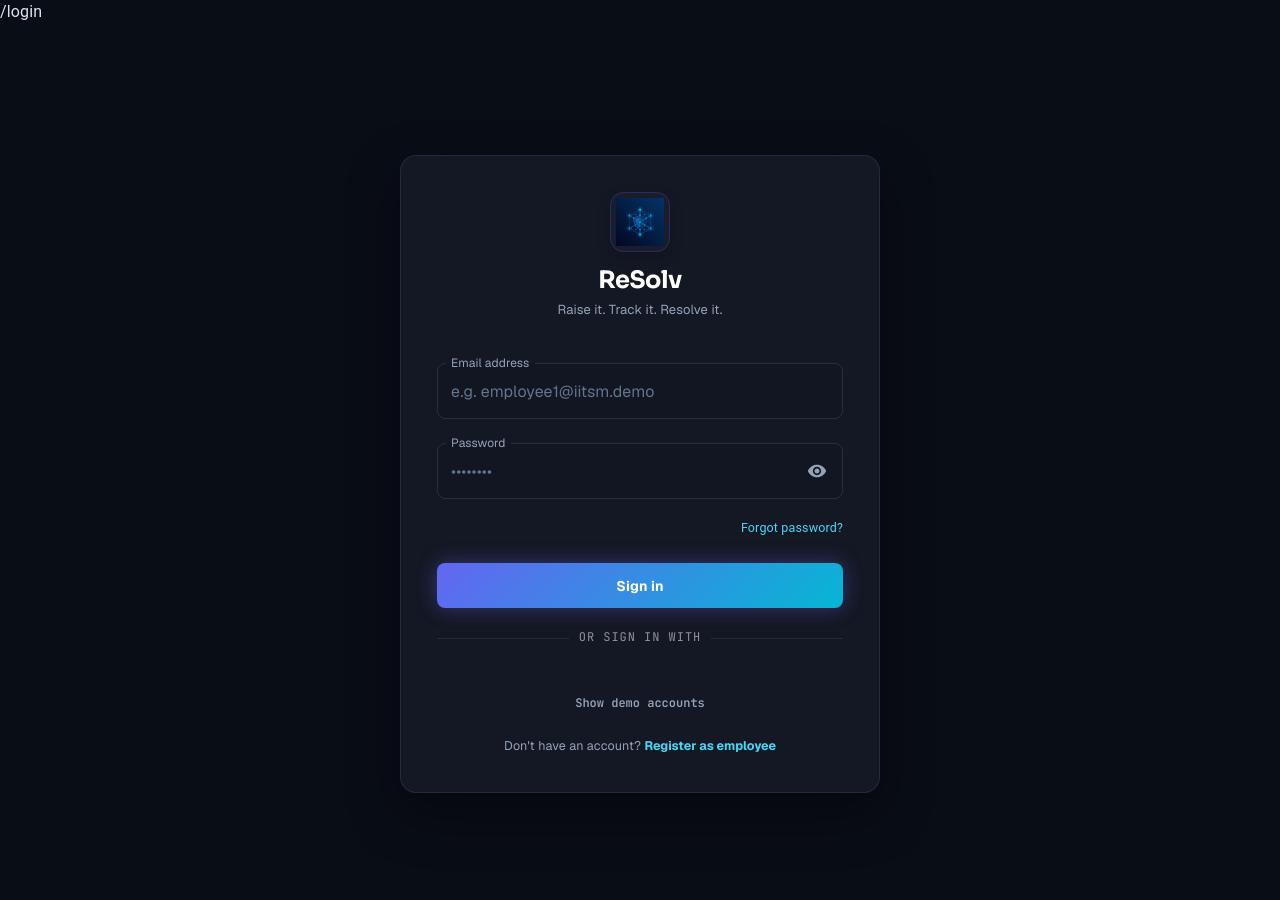
Test case: Auth and Navigation Flow › Employee login routes to Employee Home
Click the button "Show demo accounts" at (640, 704), box [575,694,705,714]
(page scrolled)
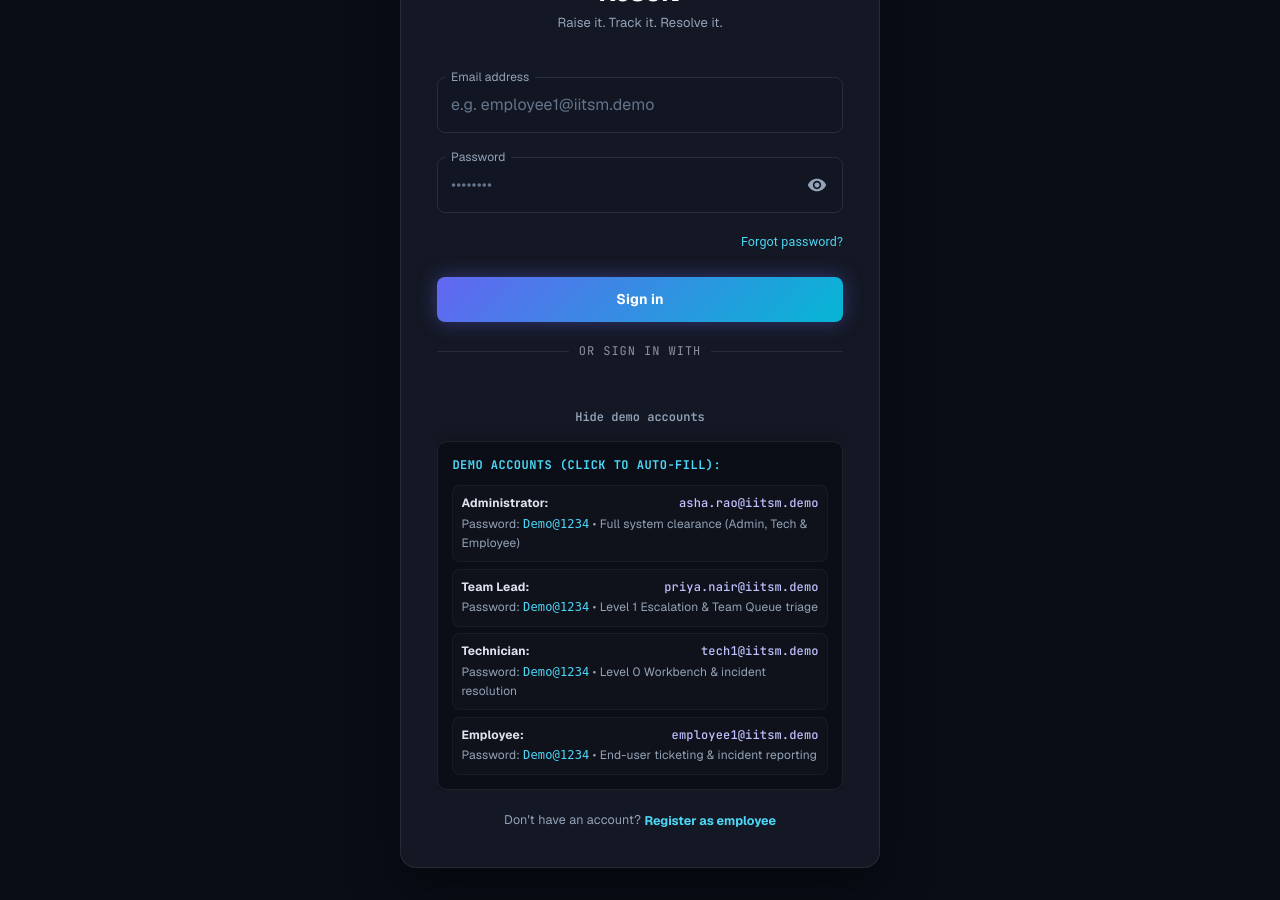
Click the text "employee1@iitsm.demo" at (745, 735), box [672,726,819,745]
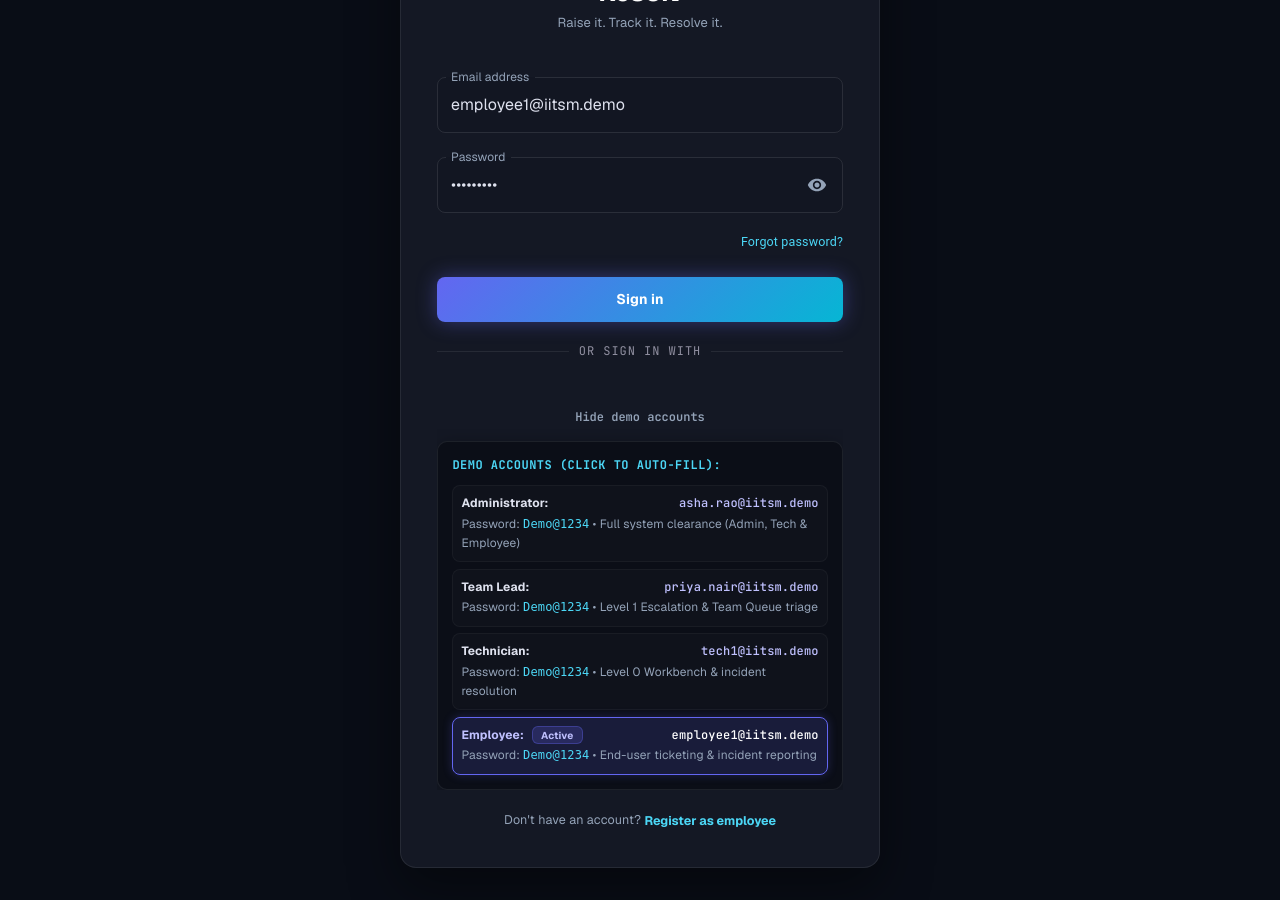
Click the button "Sign in" at (640, 299), box [437,276,843,322]
(page scrolled)
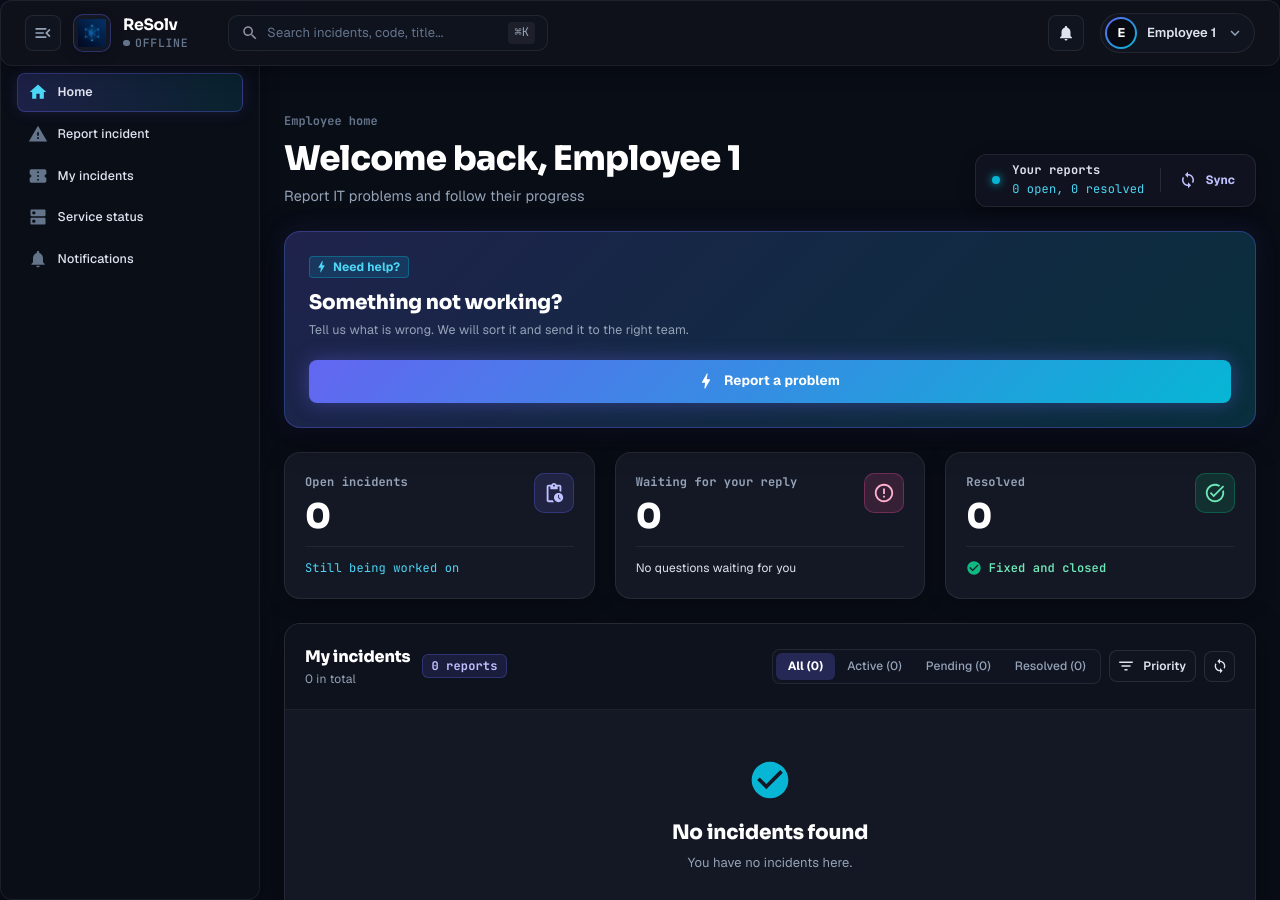
Expected: the text with test id "current-route" reads "/employee/home", [0,2,125,21]
